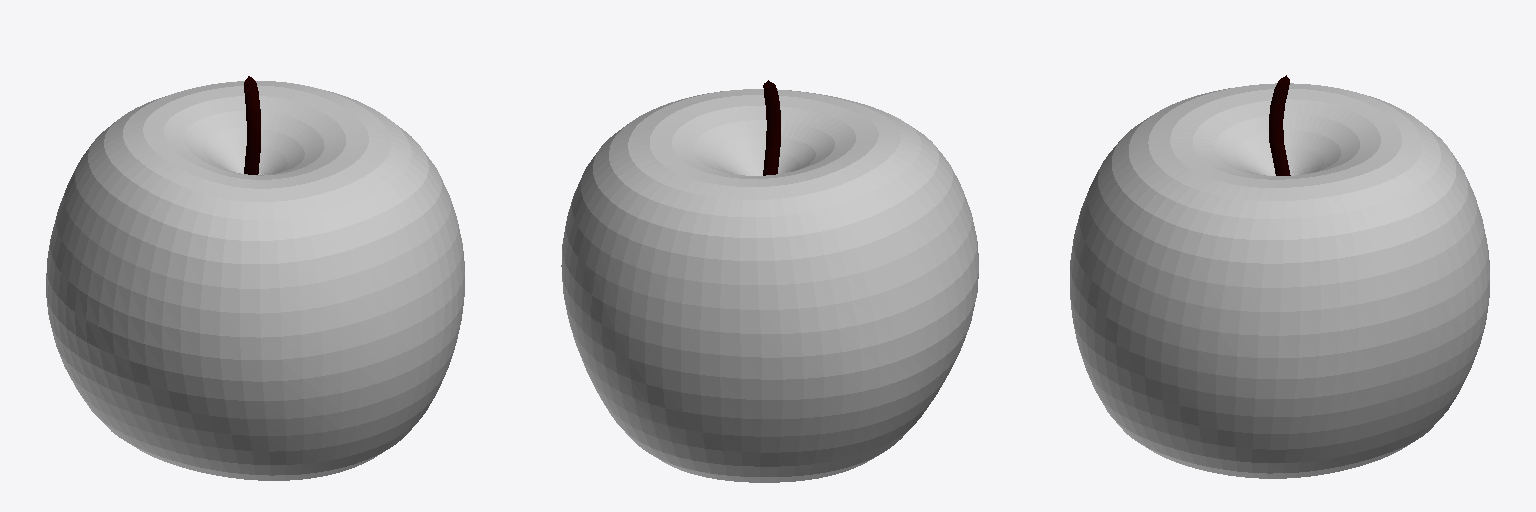
The model's file is Apple.obj.
The picture shows the model from 3 angles: view 1: azimuth 30°, elevation 25°; view 2: azimuth 150°, elevation 25°; view 3: azimuth 270°, elevation 25°; orthographic projection.
Visible parts, largest first — view 1: Apple; view 2: Apple; view 3: Apple.
Boxes of the visible parts, x1=… form: Apple: x1=46, y1=76, x2=464, y2=480; Apple: x1=561, y1=80, x2=978, y2=482; Apple: x1=1070, y1=75, x2=1489, y2=478.
Bounding box in the file's own units: 1.92 × 1.81 × 1.93.